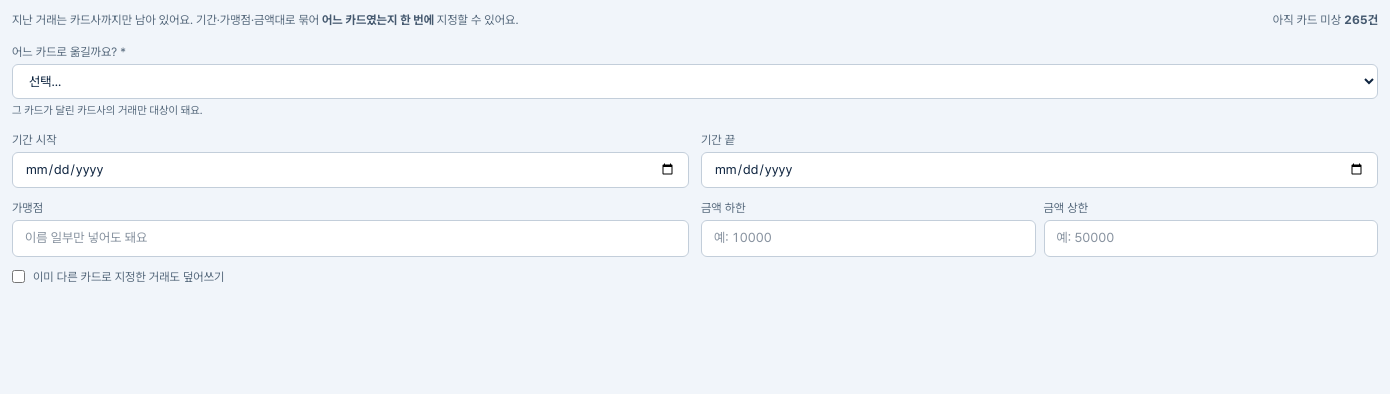
Test: C. 프리뷰 — 실행 전에 건수가 보인다 › C-6. 프리뷰가 거절되면 그 이유를 보여준다
Select "하나 A · 하나카드" in the dropdown labelled "어느 카드로 옮길까요? *" at (695, 82), box [12, 64, 1378, 99]
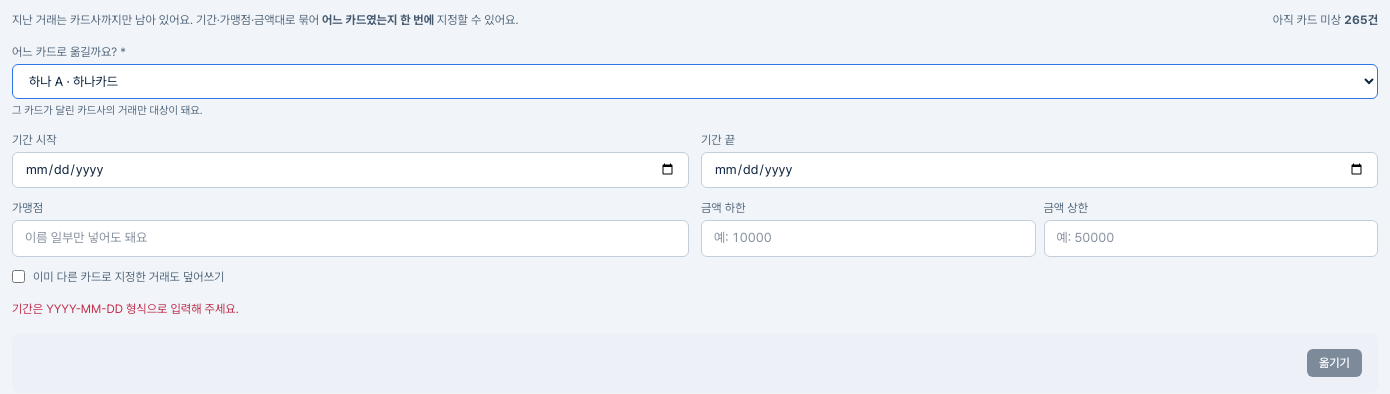
Now the message shows "YYYY-MM-DD", box [12, 302, 239, 316]
